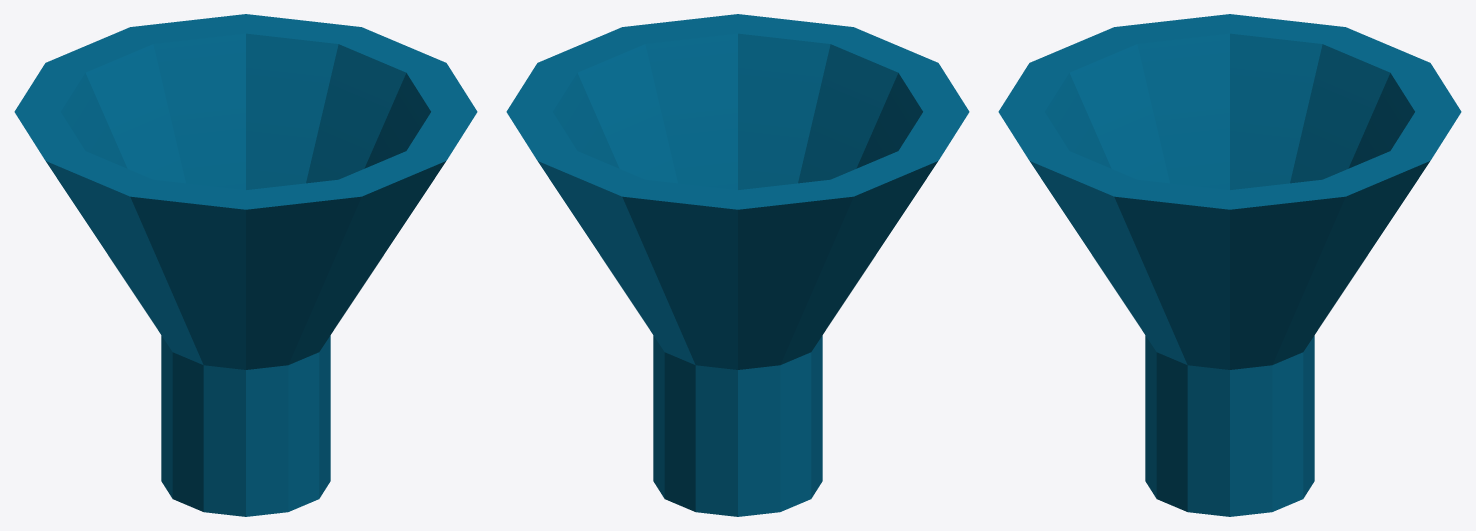
Rendered from embudo.fbx.
3 renders of one model, left to right at view 1: azimuth 30°, elevation 25°; view 2: azimuth 150°, elevation 25°; view 3: azimuth 270°, elevation 25°, orthographic.
Visible parts, largest first — view 1: pCylinder1; view 2: pCylinder1; view 3: pCylinder1.
Boxes of the visible parts, bbox=[...] form: pCylinder1: bbox=[14, 14, 477, 516]; pCylinder1: bbox=[506, 14, 969, 516]; pCylinder1: bbox=[998, 14, 1461, 516].
Size of the model in its own units: 4.02 by 3.53 by 4.02.
